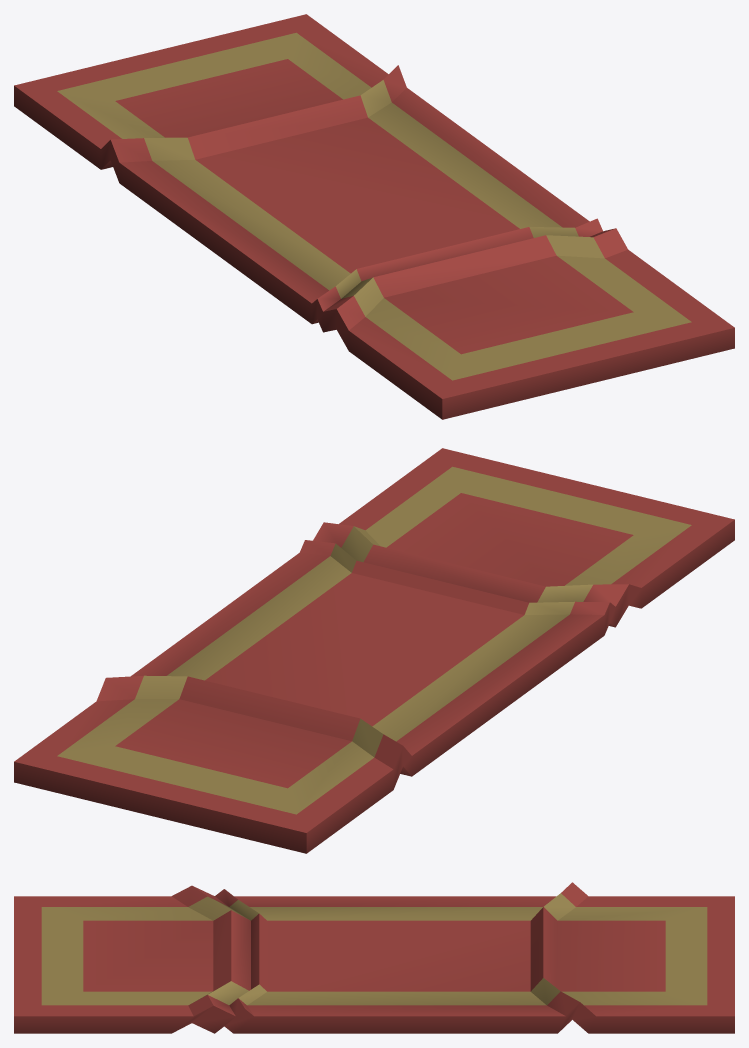
The model's file is pq_tapis_crypte.glb.
3 renders of one model, top to bottom at view 1: azimuth 30°, elevation 25°; view 2: azimuth 150°, elevation 25°; view 3: azimuth 270°, elevation 25°, orthographic. The views are drawn at different scales.
Visible parts, largest first — view 1: Carpet; view 2: Carpet; view 3: Carpet.
Part boxes in pixels (box(x1,y1,x2,y2)): Carpet: box(14, 14, 734, 419); Carpet: box(14, 448, 734, 853); Carpet: box(14, 882, 734, 1033).
Size of the model in its own units: 1.27 by 0.1546 by 3.21.
